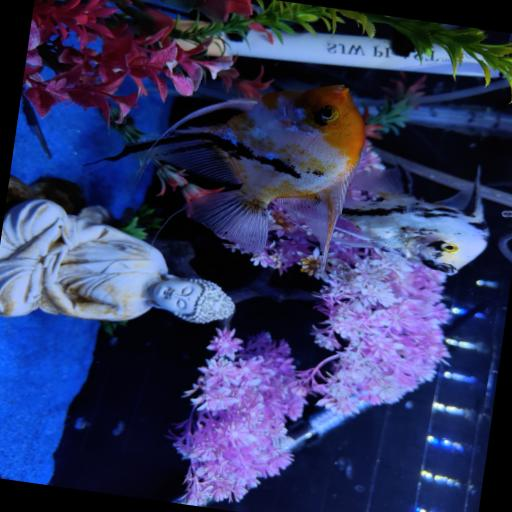Fish: (106, 85, 364, 255), (335, 166, 488, 274)
